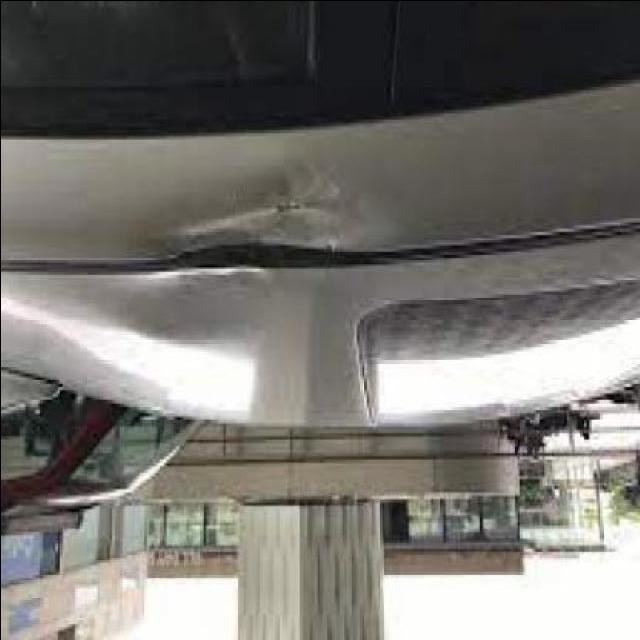roof-dent: (47, 84, 497, 424)
